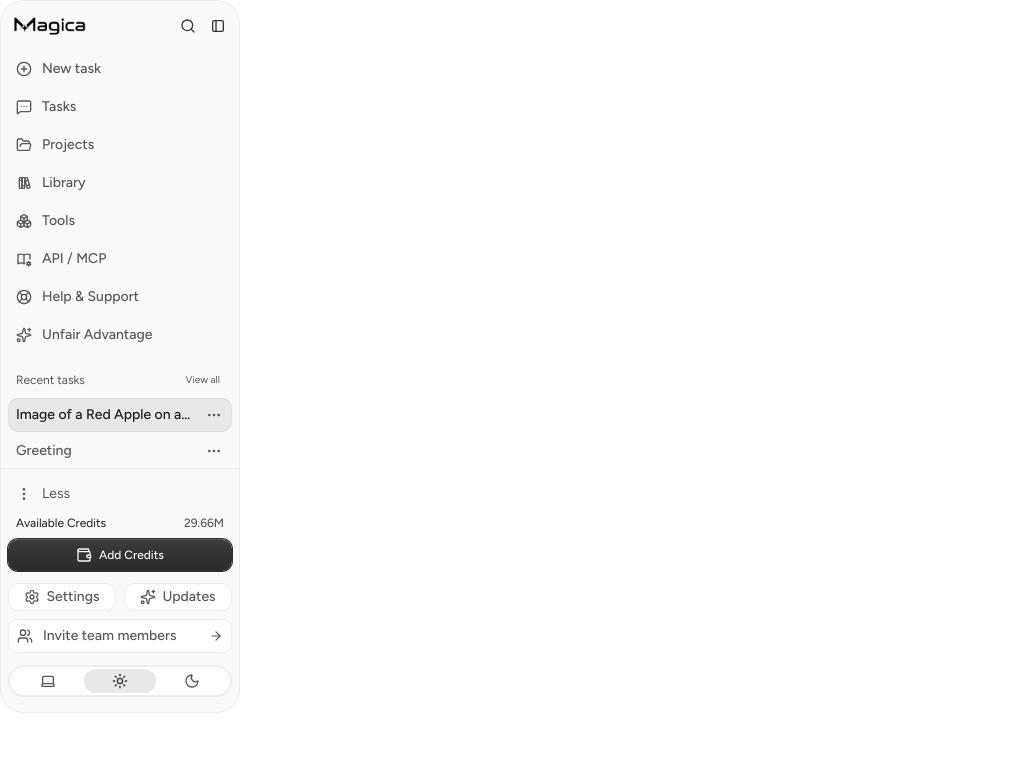
Scenario: deleting a task › stays on the page when a different task is deleted
Step 1. Click the button named "Options for Greeting" → [214, 451], box [202,439,226,463]
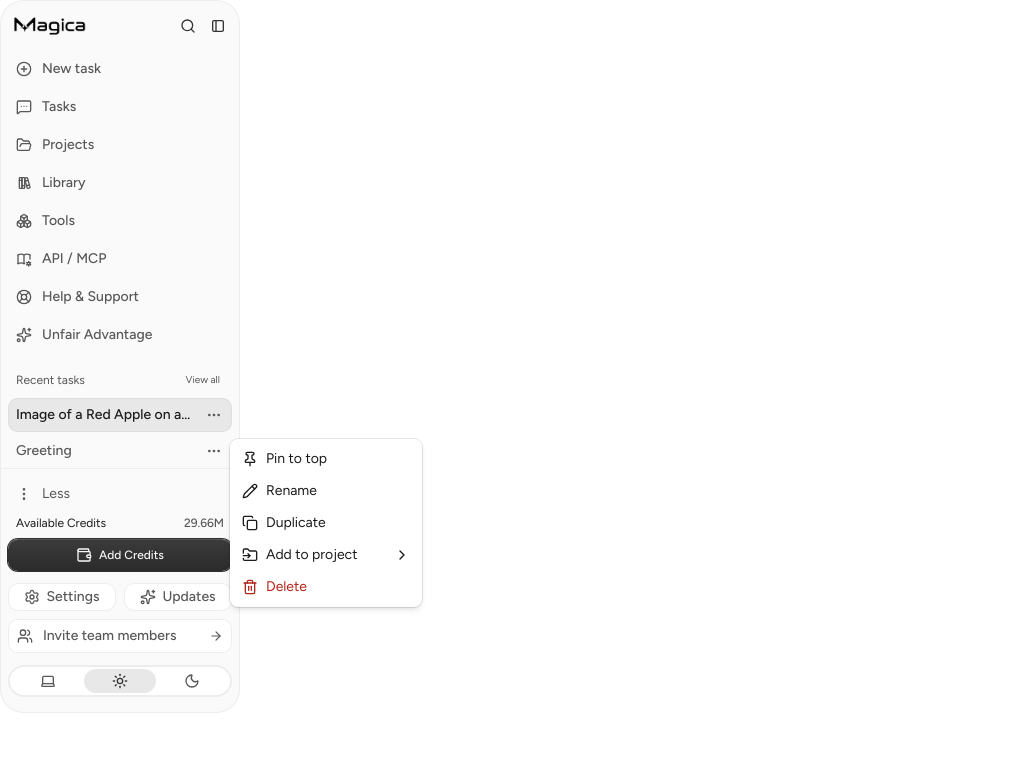
Step 2. Click the menu item "Delete" → [274, 586], box [242,578,307,595]
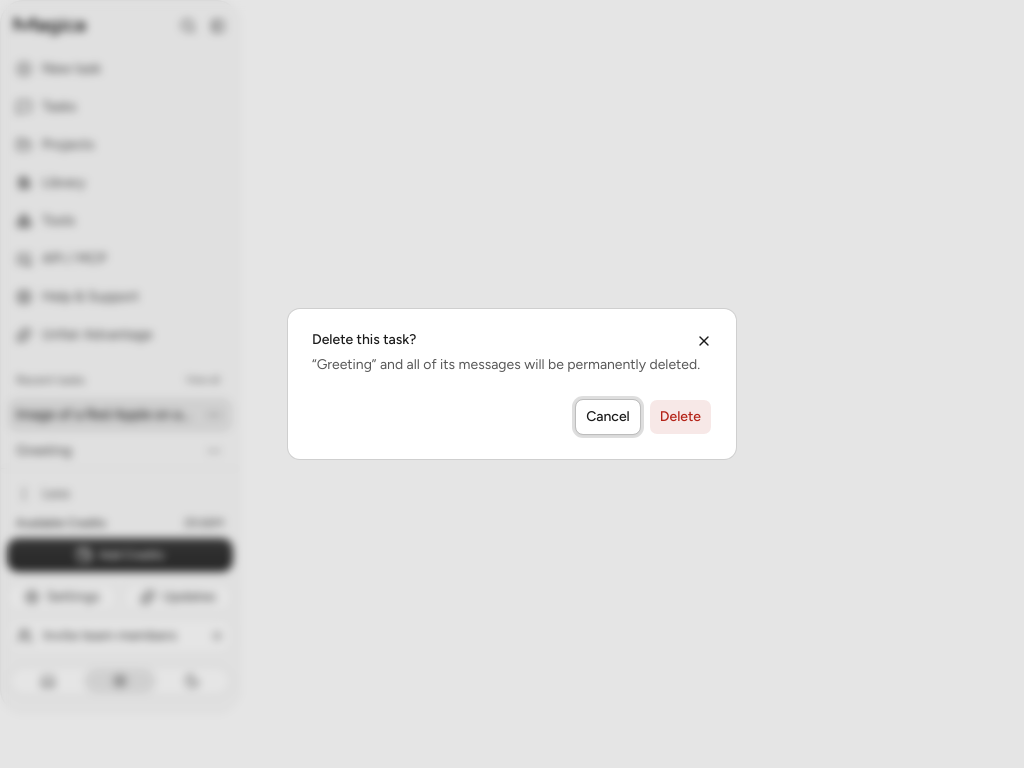
Step 3. Click the button "Delete" → [680, 417], box [649,399,712,435]
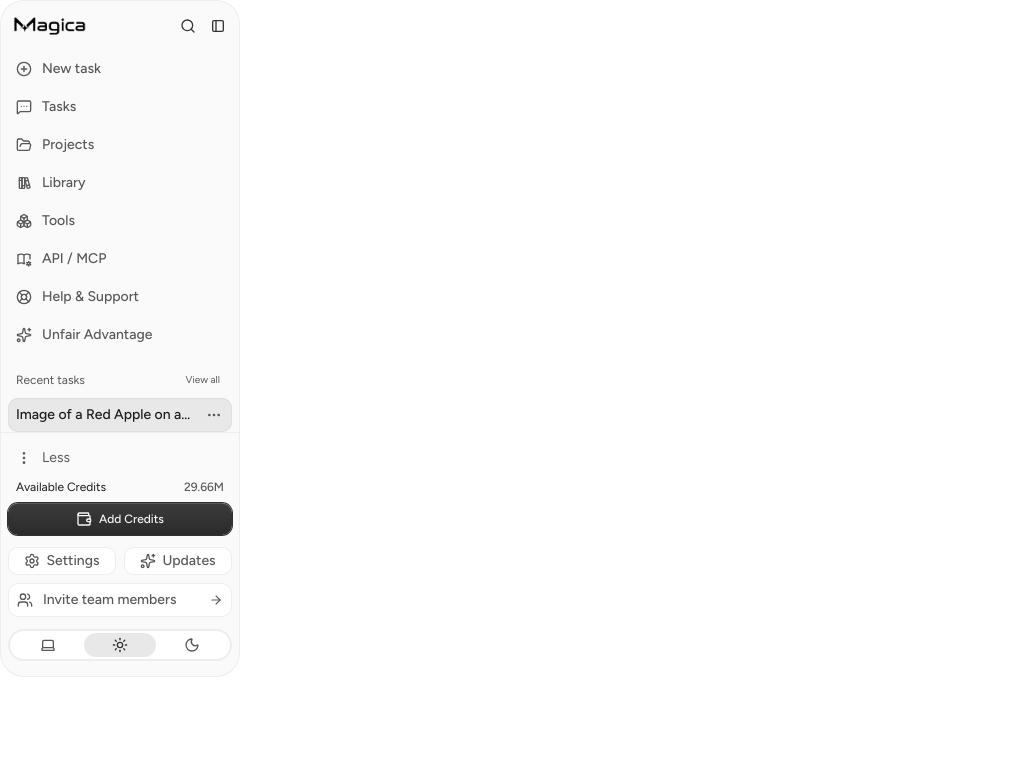
Check: the link "Greeting" is gone
